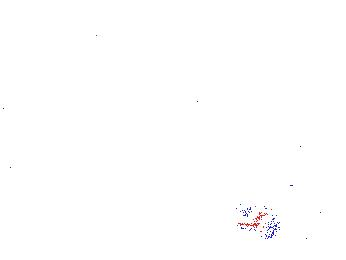flame jellyfish: (236, 190, 322, 246), (31, 74, 79, 139)
